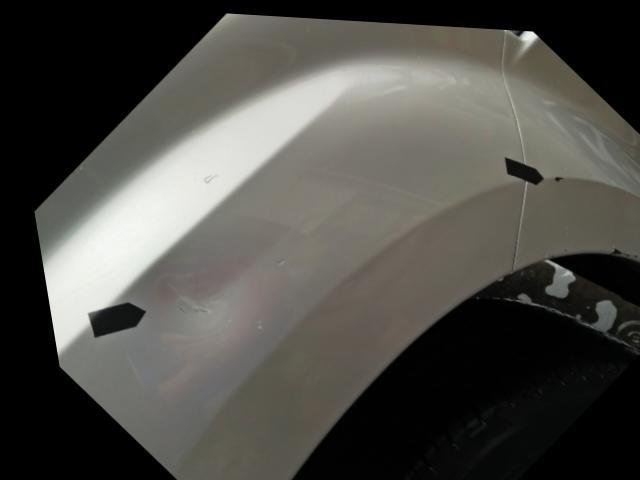dent: (128, 251, 239, 365)
scratch: (599, 238, 632, 251)
